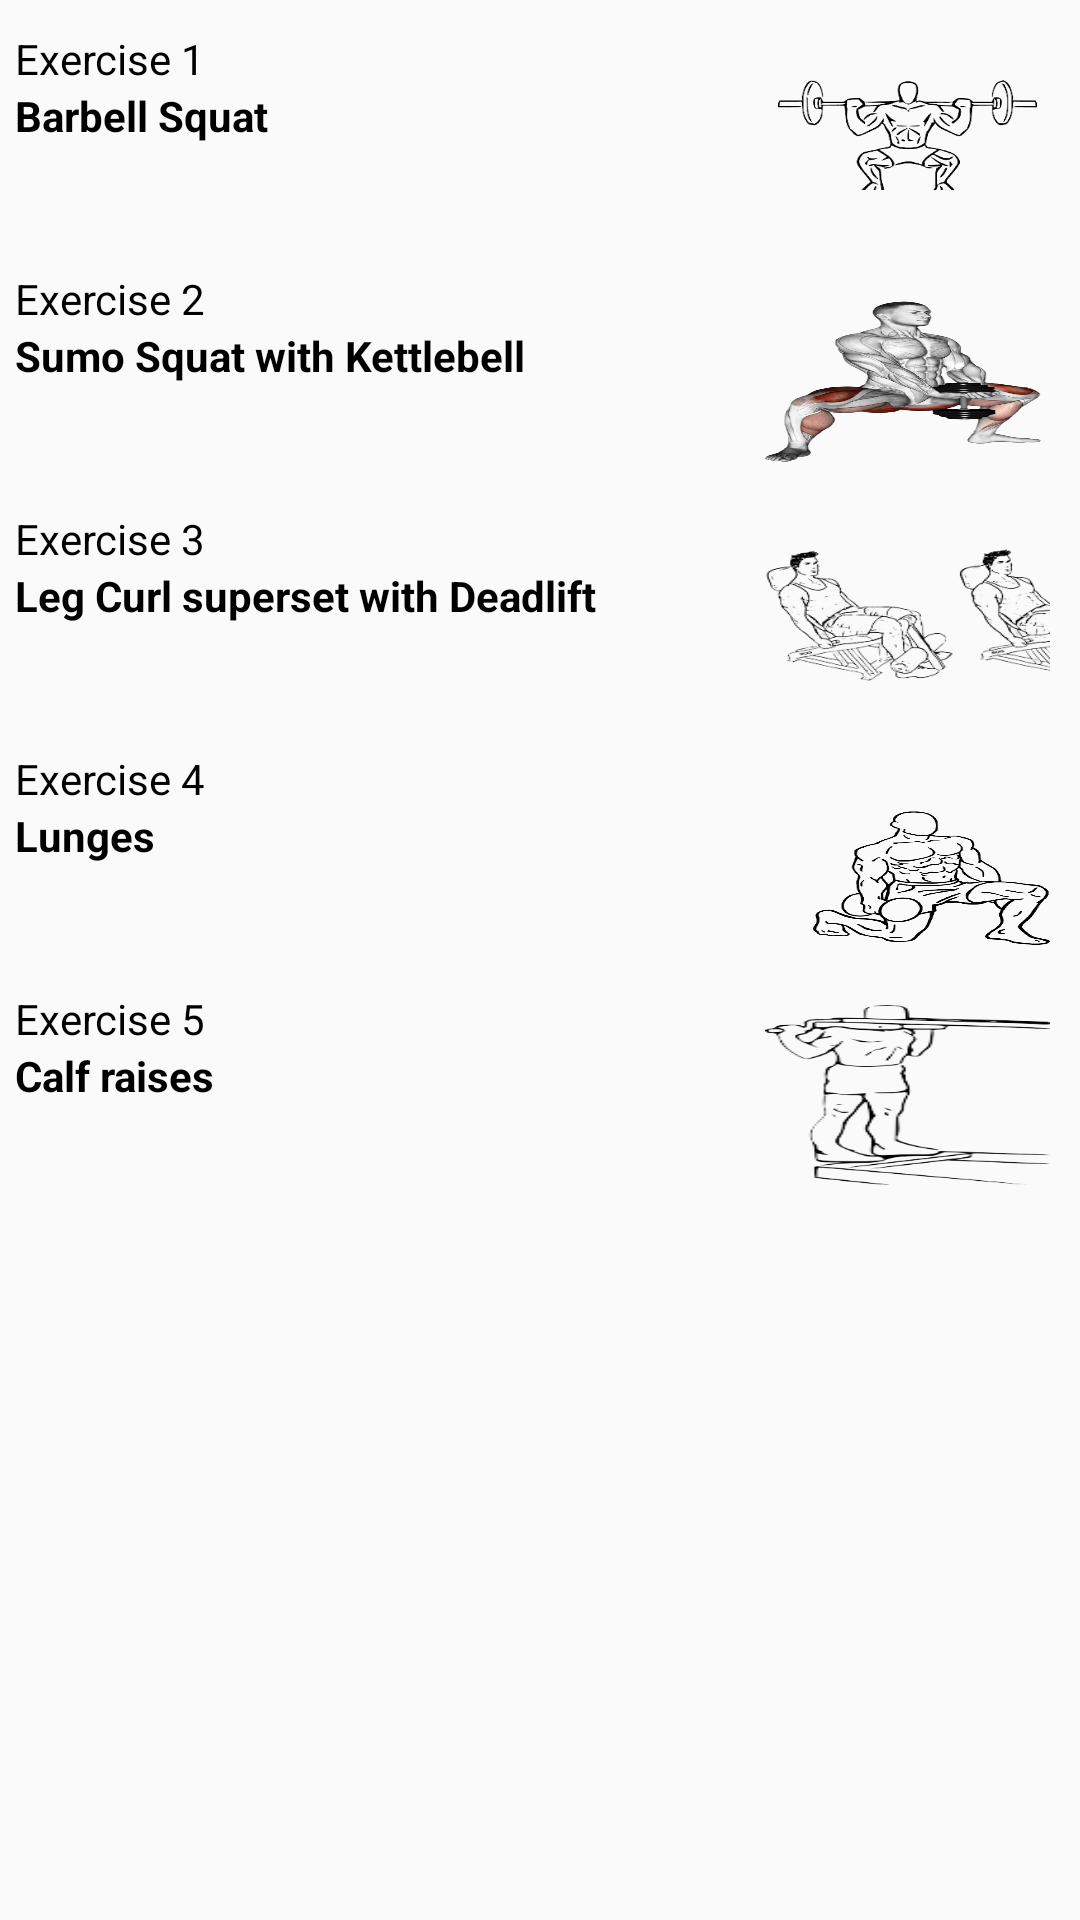

Where icons sit on this 1080px x 1920px app screen, as [x1,y1,x2,y2]:
sumo with ettlebell: [765,301,1041,462]
